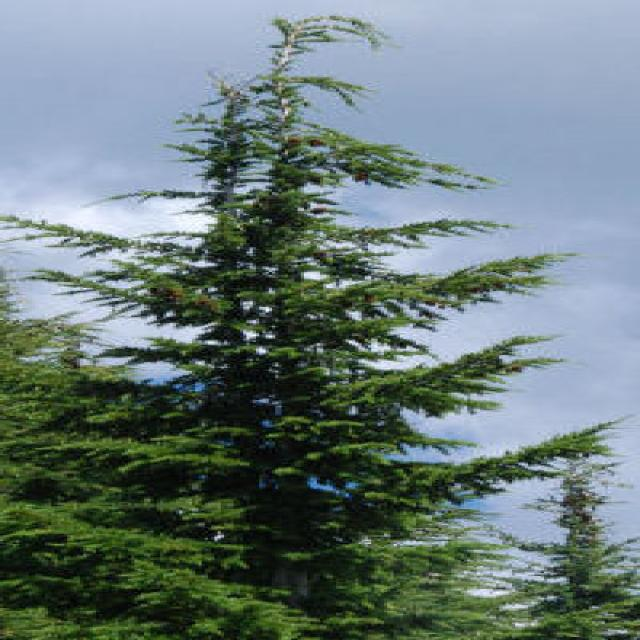Tsuga mertensiana: (0, 6, 638, 639)
